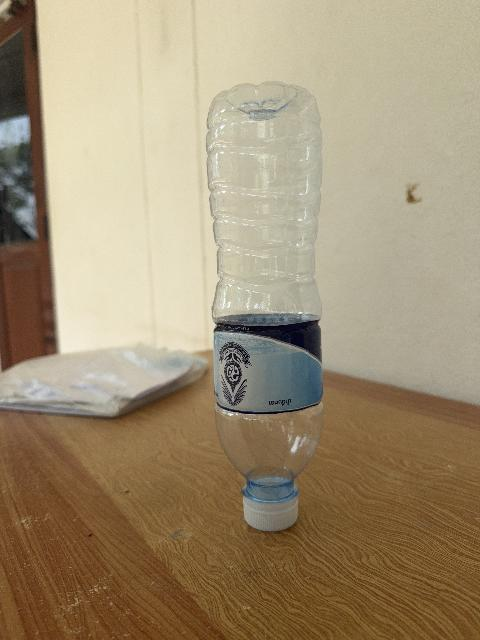bottle: (207, 83, 322, 530)
